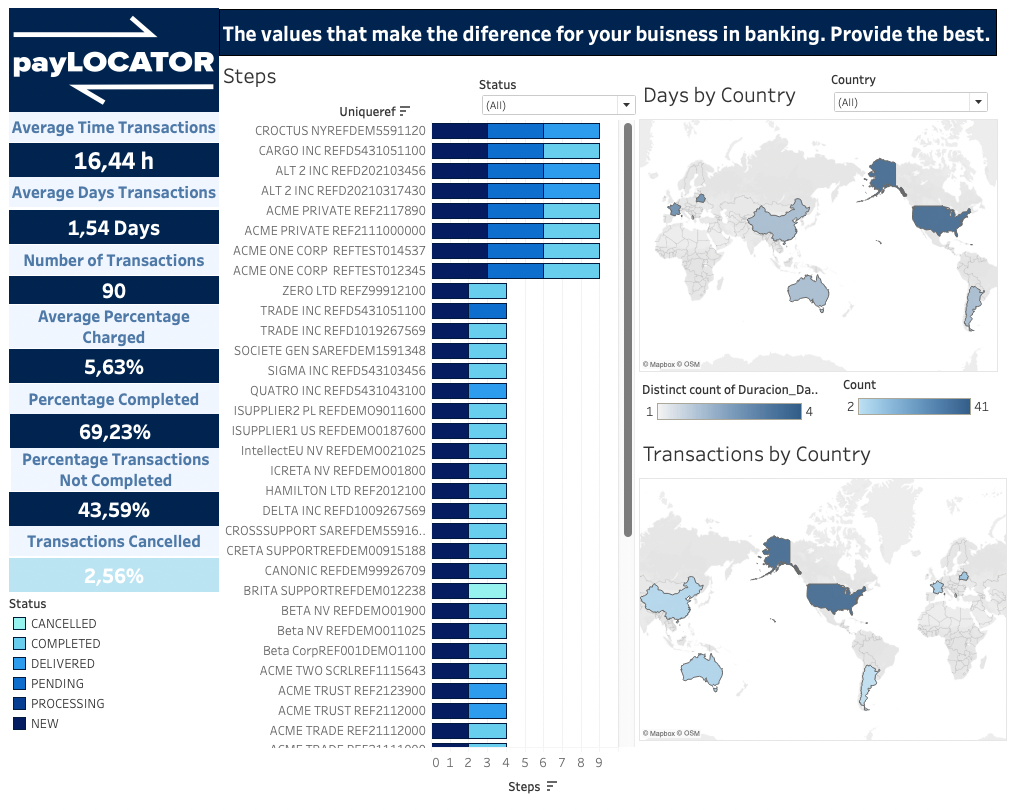

This screenshot's page, from the dashboard's own definition file:
{"tool":"tableau","page":{"name":"Dashboard 1","canvas":[1000,800],"ordinal":0},"visuals":[{"type":"image","param":"/Users/edgartome_1/IronHack/IronProjects/Project6/logo_white.svg","box":[9,7,202,104]},{"type":"text","box":[212,8,788,47]},{"type":"worksheet","title":"Steps","mark":"Automatic","rows":["uniqueref"],"cols":["Steps"],"box":[213,56,416,745]},{"type":"filter","title":"Transactions by Country","param":"[federated.0srqluo1g26l7d138jx4m15isy8j].[none:Country:nk]","box":[831,70,160,44]},{"type":"filter","title":"Steps","param":"[federated.0srqluo1g26l7d138jx4m15isy8j].[none:Status:nk]","box":[479,75,160,40]},{"type":"worksheet","title":"Days by Country","mark":"Multipolygon","box":[639,75,359,296]},{"type":"text","box":[9,111,202,30]},{"type":"worksheet","title":"Avegare Time Transation","mark":"Automatic","box":[9,142,202,34]},{"type":"text","box":[9,176,202,30]},{"type":"worksheet","title":"Avegare Days Transation","mark":"Automatic","box":[9,209,202,34]},{"type":"text","box":[9,244,202,30]},{"type":"worksheet","title":"Number of Transations","mark":"Automatic","box":[9,275,202,34]},{"type":"text","box":[9,304,202,43]},{"type":"worksheet","title":"Average of Percentage Charged","mark":"Automatic","box":[9,348,202,34]},{"type":"legend","title":"Transactions by Country","param":"[federated.0srqluo1g26l7d138jx4m15isy8j].[ctd:uniqueref:qk]","box":[843,375,151,59]},{"type":"legend","title":"Days by Country","param":"[federated.0srqluo1g26l7d138jx4m15isy8j].[ctd:Duracion:qk]","box":[642,380,176,48]},{"type":"text","box":[9,383,202,30]},{"type":"worksheet","title":"Percentage Completed","mark":"Automatic","box":[10,413,202,34]},{"type":"text","box":[11,447,202,43]},{"type":"worksheet","title":"Percentage Transations not Completed","mark":"Automatic","box":[9,491,202,34]},{"type":"text","box":[9,525,202,30]},{"type":"worksheet","title":"Transactions Cancelled","mark":"Automatic","box":[9,557,202,34]},{"type":"legend","title":"Steps","param":"[federated.0srqluo1g26l7d138jx4m15isy8j].[none:Status:nk]","box":[9,594,202,182]}]}

Visuals, with their boxes in screenshot pixels (x1, y1, x2, y2), scaled from the page's 1000x800 canvas onto the 1020x810 screenshot:
image: bbox=[9, 7, 215, 112]
text: bbox=[216, 8, 1019, 56]
"Steps" worksheet: bbox=[217, 57, 642, 809]
"Transactions by Country" filter: bbox=[848, 71, 1011, 115]
"Steps" filter: bbox=[489, 76, 652, 116]
"Days by Country" worksheet (Multipolygon marks): bbox=[652, 76, 1018, 376]
text: bbox=[9, 112, 215, 143]
"Avegare Time Transation" worksheet: bbox=[9, 144, 215, 178]
text: bbox=[9, 178, 215, 209]
"Avegare Days Transation" worksheet: bbox=[9, 212, 215, 246]
text: bbox=[9, 247, 215, 277]
"Number of Transations" worksheet: bbox=[9, 278, 215, 313]
text: bbox=[9, 308, 215, 351]
"Average of Percentage Charged" worksheet: bbox=[9, 352, 215, 387]
"Transactions by Country" legend: bbox=[860, 380, 1014, 439]
"Days by Country" legend: bbox=[655, 385, 834, 433]
text: bbox=[9, 388, 215, 418]
"Percentage Completed" worksheet: bbox=[10, 418, 216, 453]
text: bbox=[11, 453, 217, 496]
"Percentage Transations not Completed" worksheet: bbox=[9, 497, 215, 532]
text: bbox=[9, 532, 215, 562]
"Transactions Cancelled" worksheet: bbox=[9, 564, 215, 598]
"Steps" legend: bbox=[9, 601, 215, 786]
